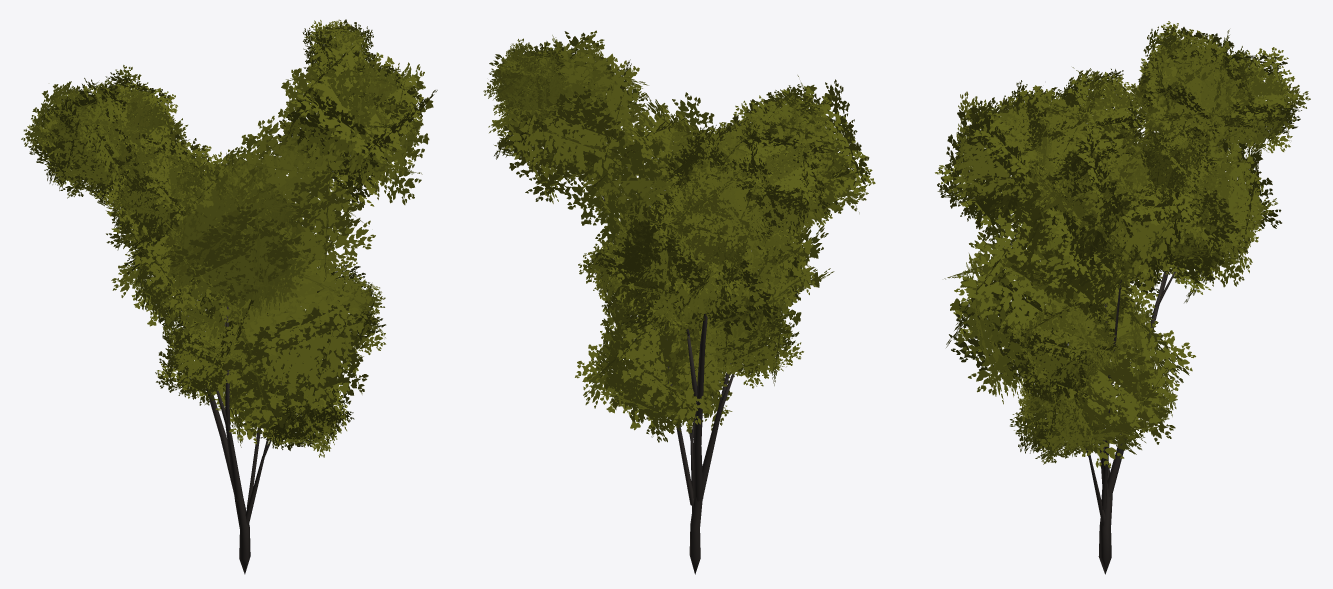
Rendered from tree_small_b.glb.
3 views of the same model, side by side, from view 1: azimuth 30°, elevation 25°; view 2: azimuth 150°, elevation 25°; view 3: azimuth 270°, elevation 25° (orthographic). The views are drawn at different scales.
Parts seen in each view (by area): view 1: Object_39, Object_38; view 2: Object_39, Object_38; view 3: Object_39, Object_38.
Boxes of the visible parts, left/top/right/bottom form: Object_39: left=21, top=19, right=437, bottom=457; Object_38: left=186, top=257, right=290, bottom=574; Object_39: left=483, top=30, right=875, bottom=442; Object_38: left=602, top=196, right=741, bottom=574; Object_39: left=935, top=21, right=1310, bottom=468; Object_38: left=1085, top=261, right=1178, bottom=574.
Bounding box in the file's own units: 6.76 × 8.81 × 6.08.
3 materials, 1 textured.
